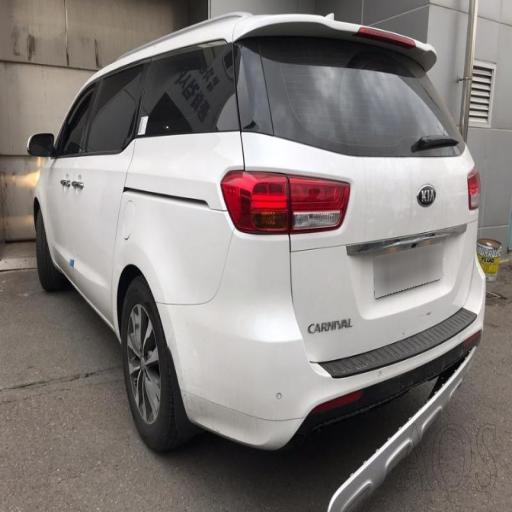broken: (273, 336, 496, 512), (243, 138, 334, 275), (115, 171, 228, 246)
